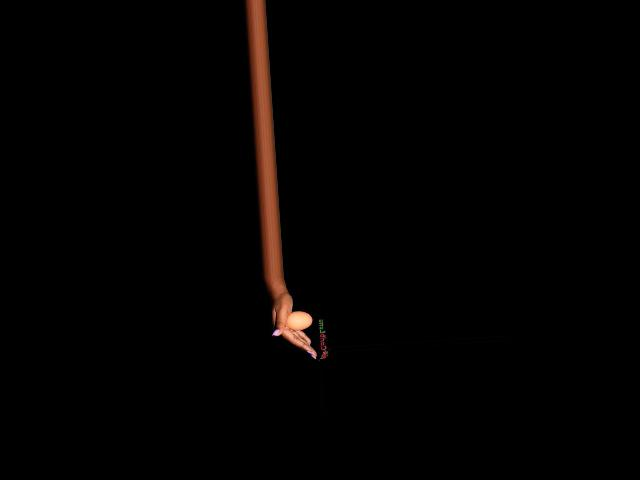egg: (286, 309, 313, 331)
